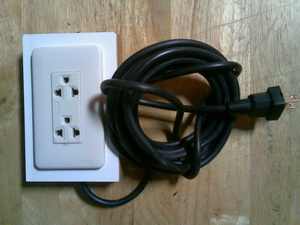Three_eye_plug: (28, 42, 108, 173)
